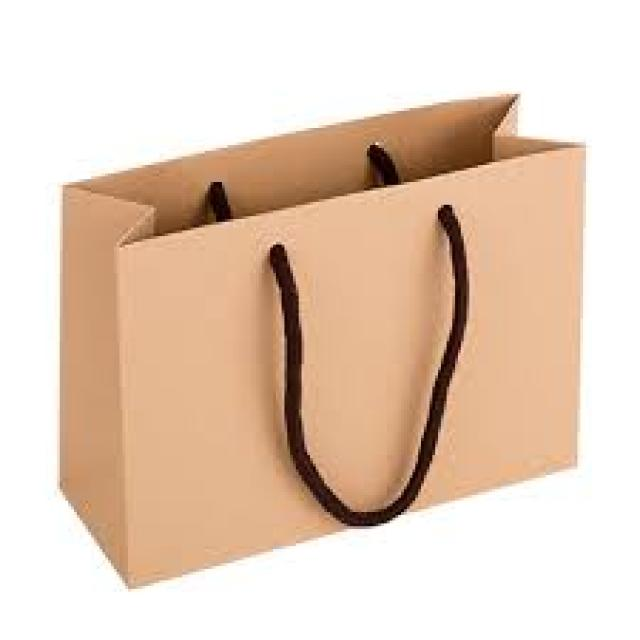paper bag: (61, 90, 588, 590)
